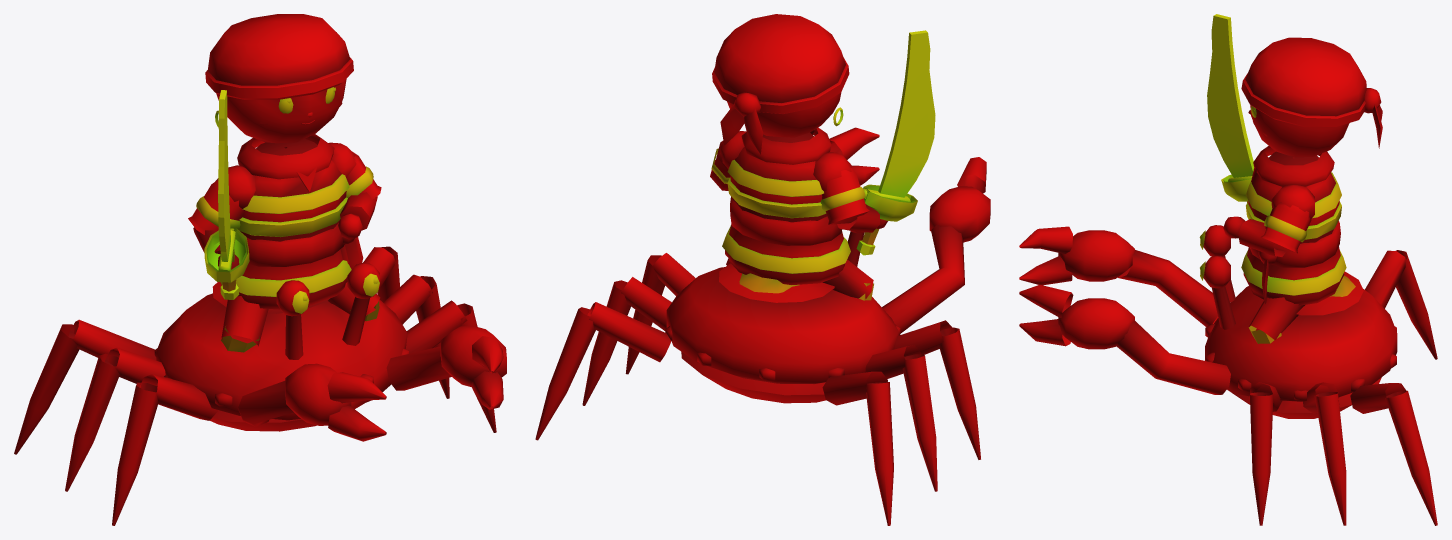
The model's file is PirateCrabRider.glb.
3 renders of one model, left to right at view 1: azimuth 30°, elevation 25°; view 2: azimuth 150°, elevation 25°; view 3: azimuth 270°, elevation 25°, orthographic. The views are drawn at different scales.
Visible parts, largest first — view 1: PirateCrabRider; view 2: PirateCrabRider; view 3: PirateCrabRider.
Part boxes in pixels (bbox=[...]): PirateCrabRider: bbox=[14, 14, 506, 525]; PirateCrabRider: bbox=[535, 14, 990, 525]; PirateCrabRider: bbox=[1019, 14, 1437, 525].
Size of the model in its own units: 1.09 by 1.18 by 1.15.
